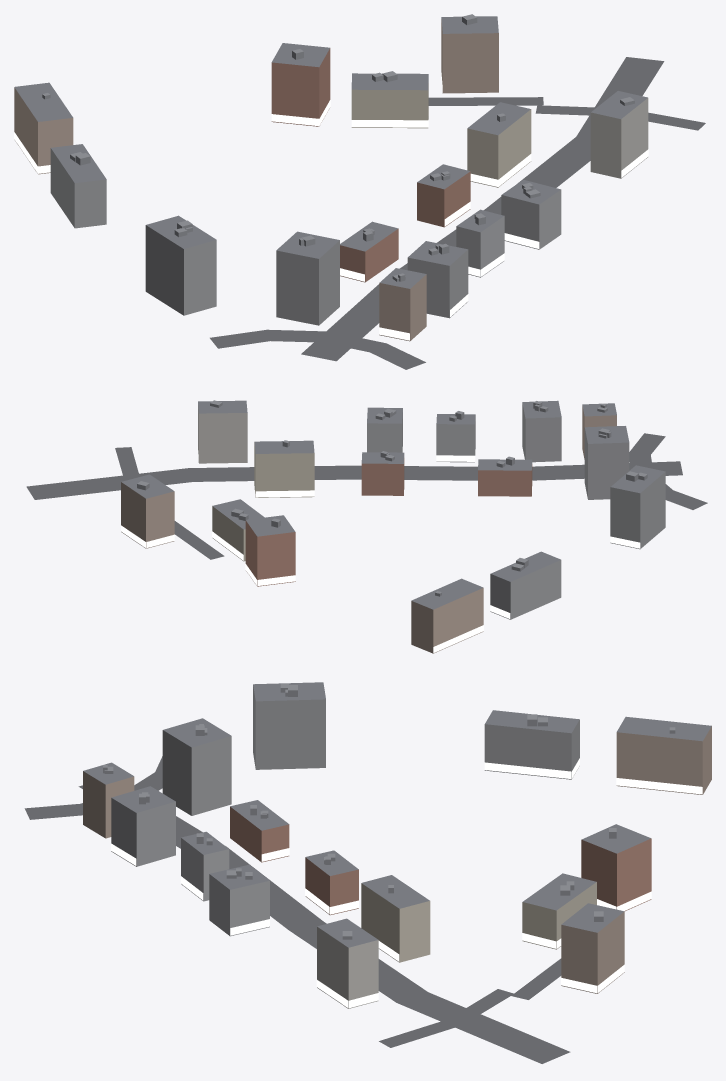
3 renders of one model, top to bottom at view 1: azimuth 30°, elevation 25°; view 2: azimuth 150°, elevation 25°; view 3: azimuth 270°, elevation 25°, orthographic. The views are drawn at different scales.
Size of the model in its own units: 301 by 32.68 by 275.
